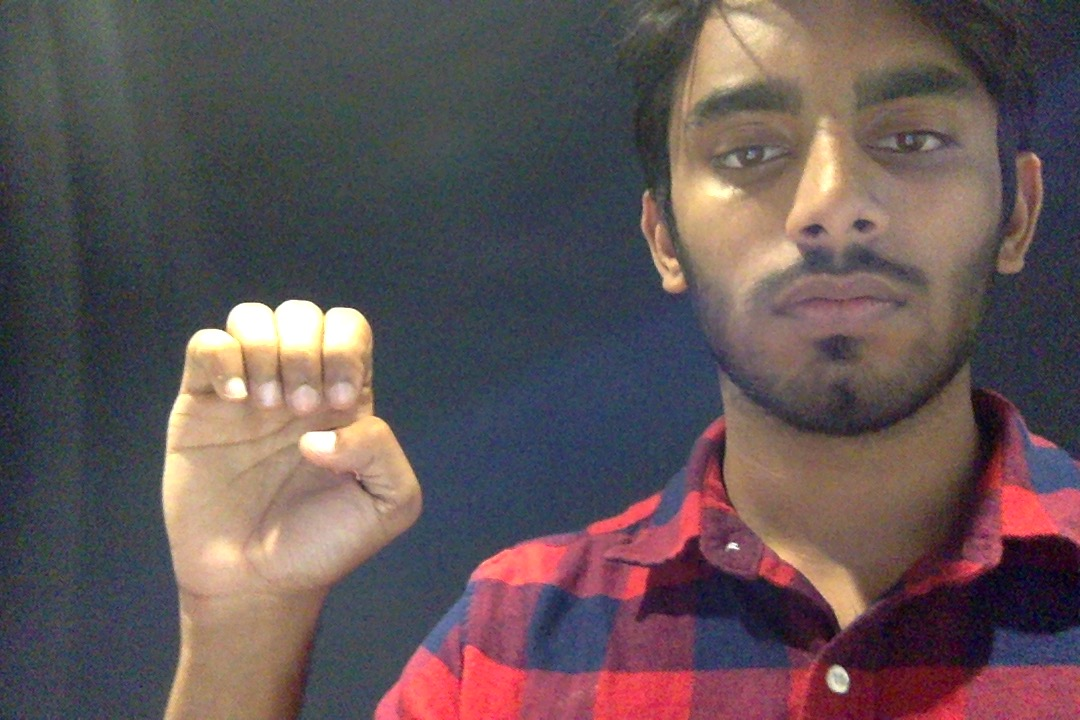e: (153, 287, 429, 623)
